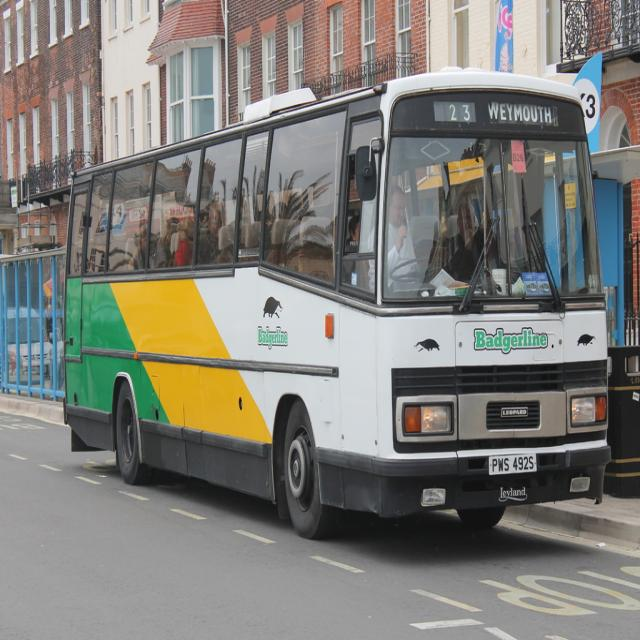Buses: (63, 72, 610, 552)
